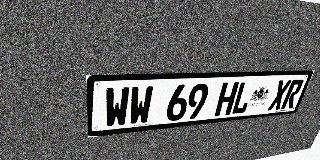6: (165, 84, 191, 122)
9: (185, 83, 210, 119)
H: (214, 82, 239, 116)
L: (230, 81, 255, 115)
R: (280, 79, 305, 109)
W: (128, 86, 154, 126), (105, 87, 130, 128)
X: (267, 80, 292, 111)
